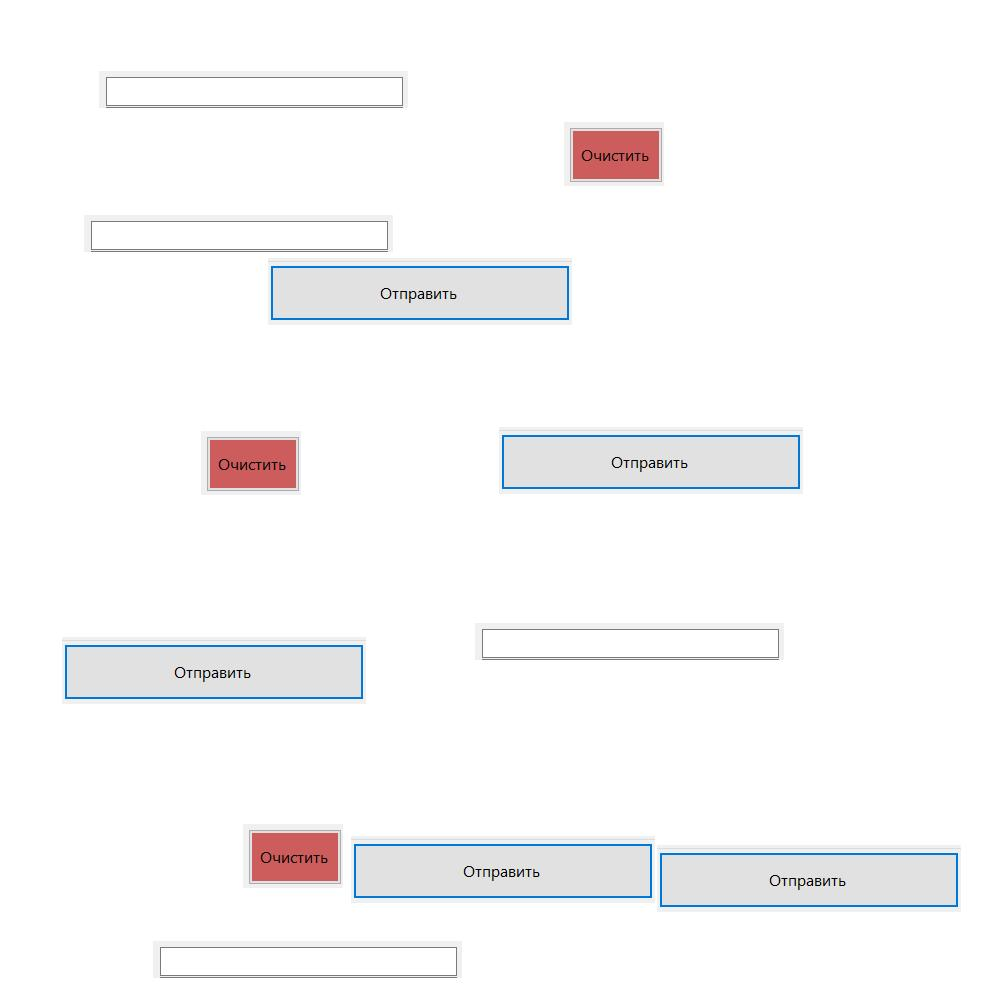Button: (268, 258, 572, 325), (62, 637, 366, 704), (657, 845, 961, 912), (499, 427, 803, 494), (351, 836, 655, 903), (201, 431, 301, 495), (564, 122, 664, 186), (243, 824, 343, 888)
EditText-: (475, 623, 784, 660), (84, 215, 393, 252), (153, 941, 462, 978), (99, 71, 408, 108)
